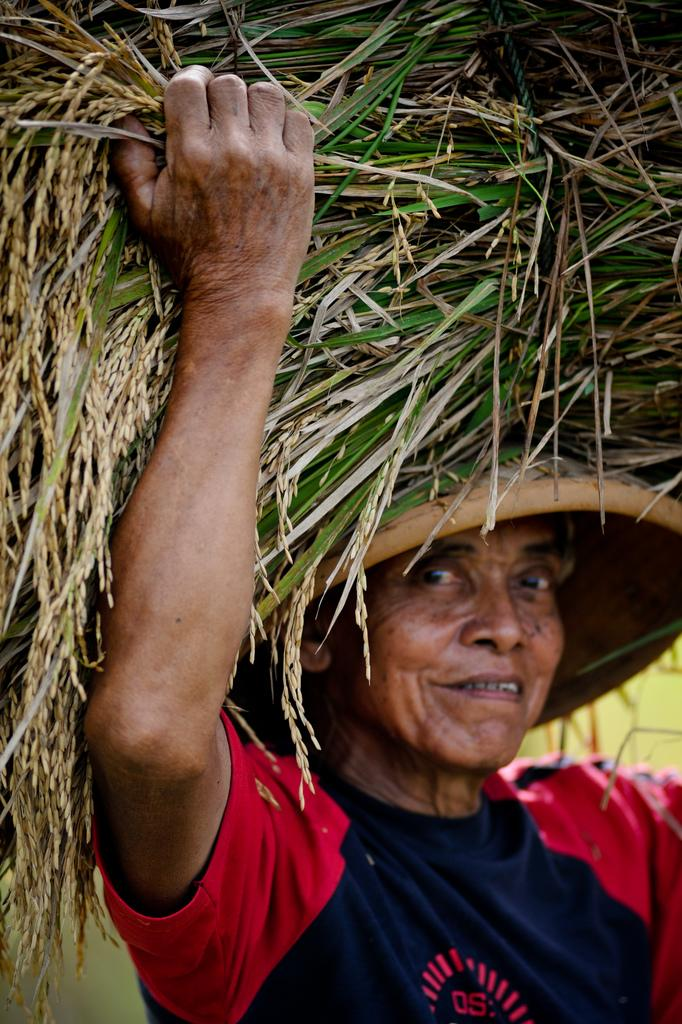Hat: (231, 454, 681, 756)
